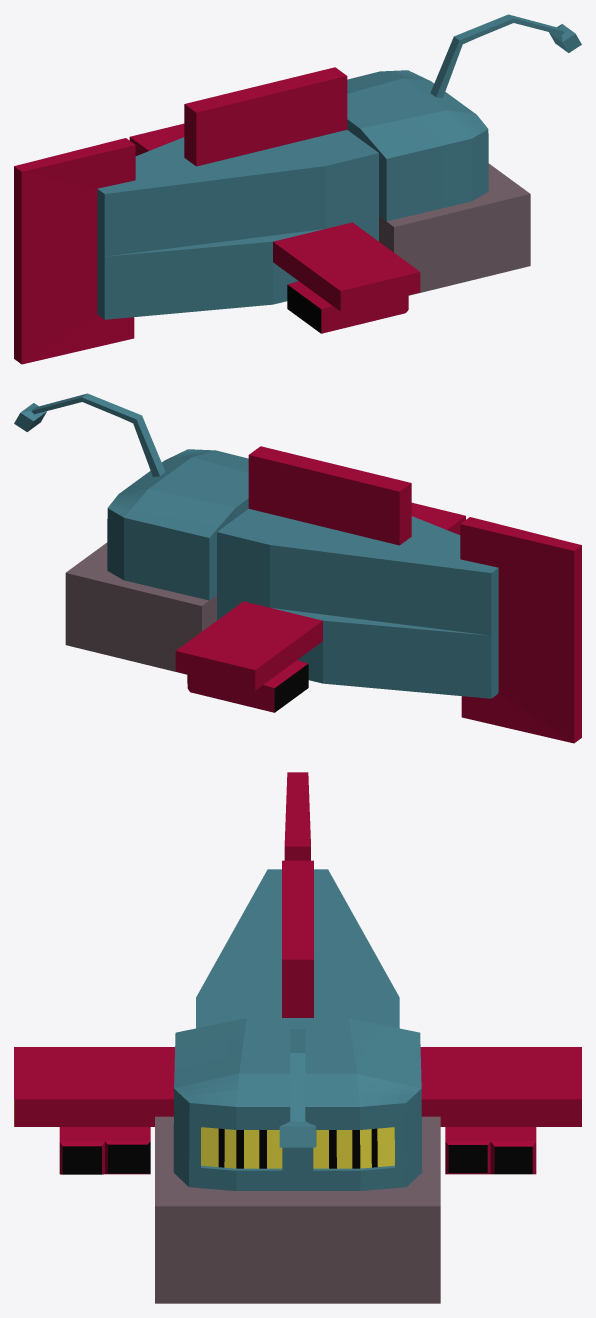
File: Anglerfish.fbx
3 renders of one model, top to bottom at view 1: azimuth 30°, elevation 25°; view 2: azimuth 150°, elevation 25°; view 3: azimuth 270°, elevation 25°, orthographic. The views are drawn at different scales.
Visible parts, largest first — view 1: Cube; view 2: Cube; view 3: Cube.
Boxes of the visible parts, left/top/right/bottom form: Cube: left=14, top=14, right=581, bottom=364; Cube: left=14, top=393, right=581, bottom=743; Cube: left=14, top=772, right=581, bottom=1303.
Size of the model in its own units: 1495 by 576 by 980.
